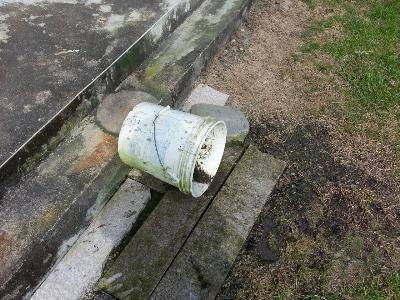bucket: (116, 100, 228, 201)
